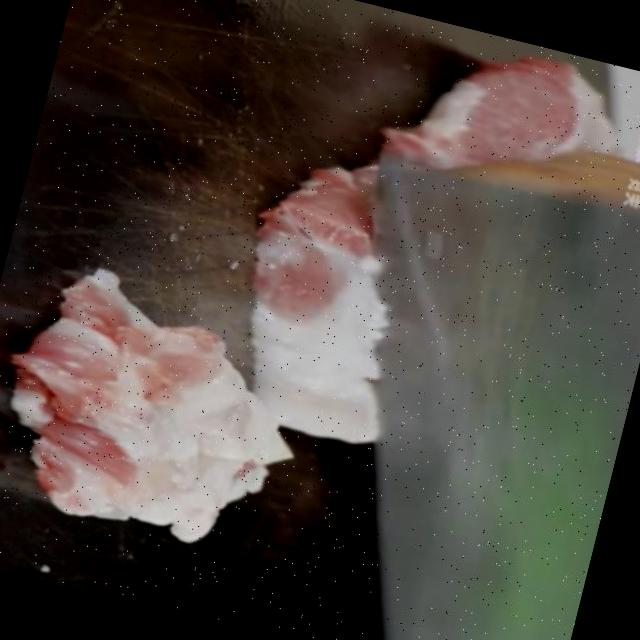potato: (0, 271, 351, 593), (214, 156, 448, 462), (406, 37, 614, 172)
